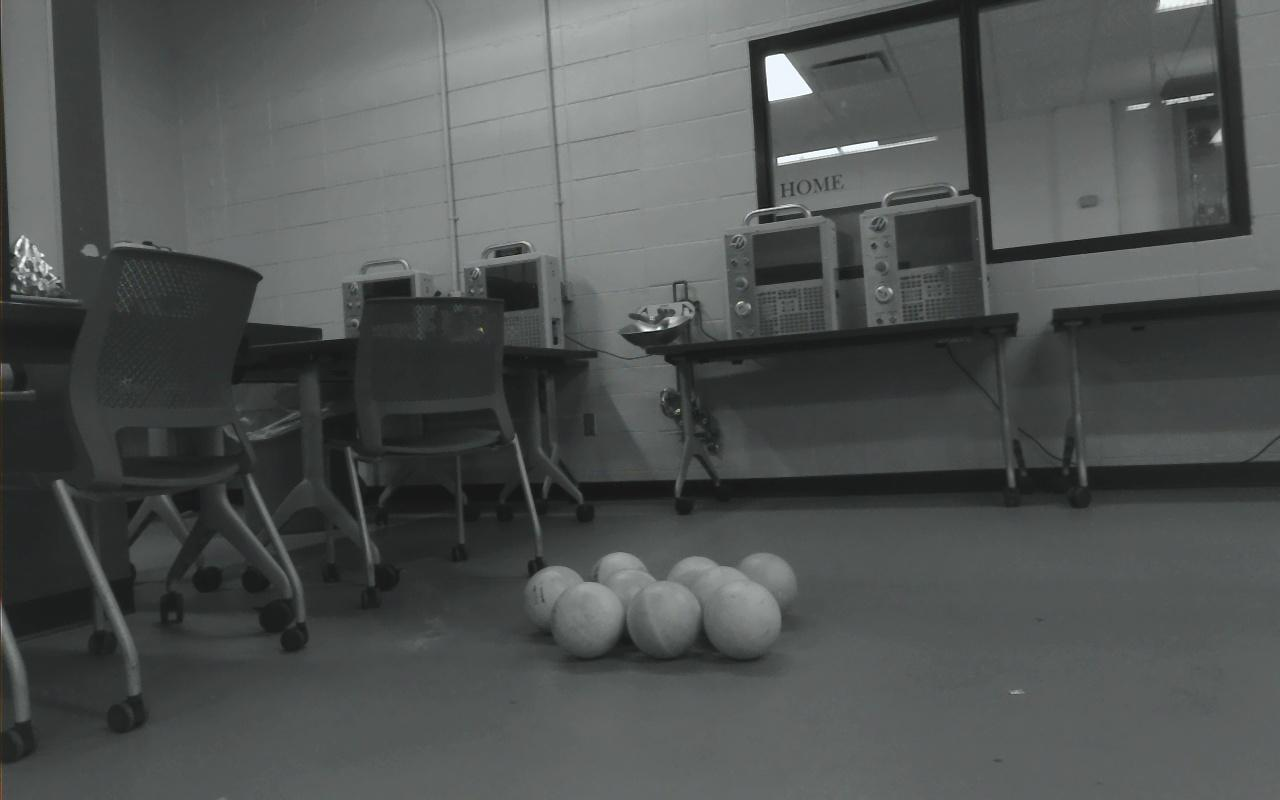Fuel: (703, 579, 781, 659), (550, 581, 625, 660), (626, 580, 701, 659), (689, 566, 756, 639), (524, 564, 589, 636), (600, 569, 662, 641), (735, 553, 796, 618), (664, 556, 724, 615), (589, 552, 652, 605)
